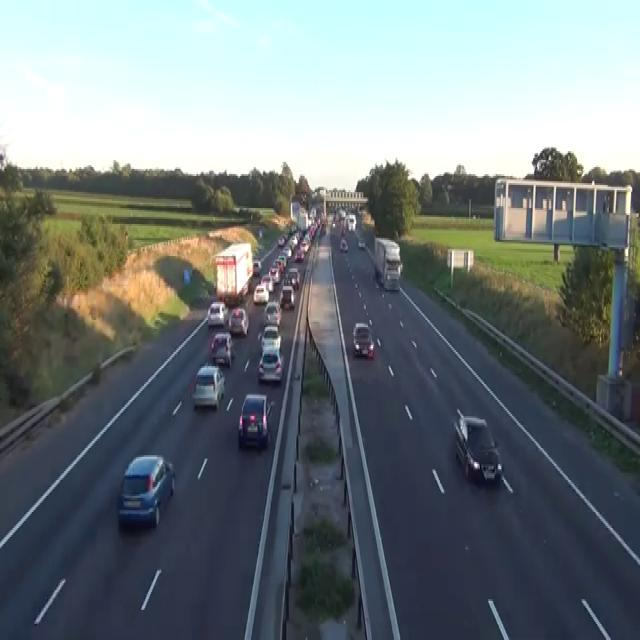Car: (117, 453, 175, 530), (452, 407, 503, 485), (237, 393, 273, 448), (191, 363, 225, 409), (257, 347, 283, 382), (210, 331, 234, 368), (352, 322, 374, 359), (258, 324, 281, 352), (228, 308, 249, 336), (207, 301, 228, 327), (264, 300, 281, 326), (279, 284, 295, 310), (252, 283, 269, 304), (287, 267, 300, 288), (260, 274, 274, 292), (269, 265, 280, 283), (276, 252, 287, 268), (273, 258, 284, 272), (252, 260, 261, 276), (183, 266, 191, 284), (300, 238, 309, 252), (294, 249, 304, 261), (340, 238, 348, 251), (283, 245, 291, 258), (338, 208, 346, 220), (358, 236, 365, 249), (277, 235, 286, 245), (320, 222, 326, 235), (340, 224, 345, 236), (258, 228, 262, 238), (332, 220, 335, 228)
Truck: (213, 242, 253, 304), (373, 234, 402, 290)
